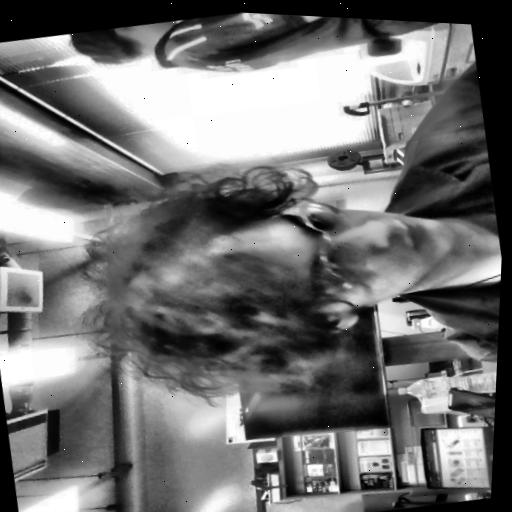Daifuku: (75, 132, 468, 429)
Not Daifuku: (66, 13, 185, 78)
